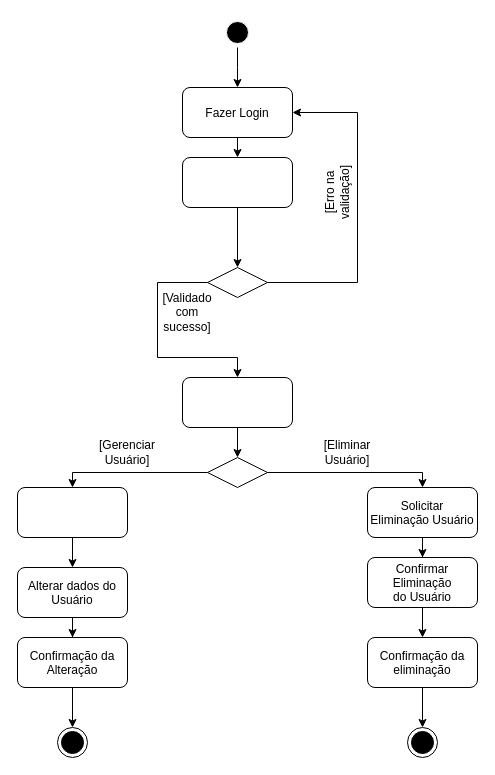
Image size: 495x775. Some labels were removed from this diagram. The shapes that lost their labels are listed below. From the top down, each one's centre as x and y in pixels, then its label:
the point at 237,182: Validar Login
the point at 237,402: Escolher entre Gerenciar Usuario ou Eliminar Usuario
the point at 72,512: Gerenciar Usuário
